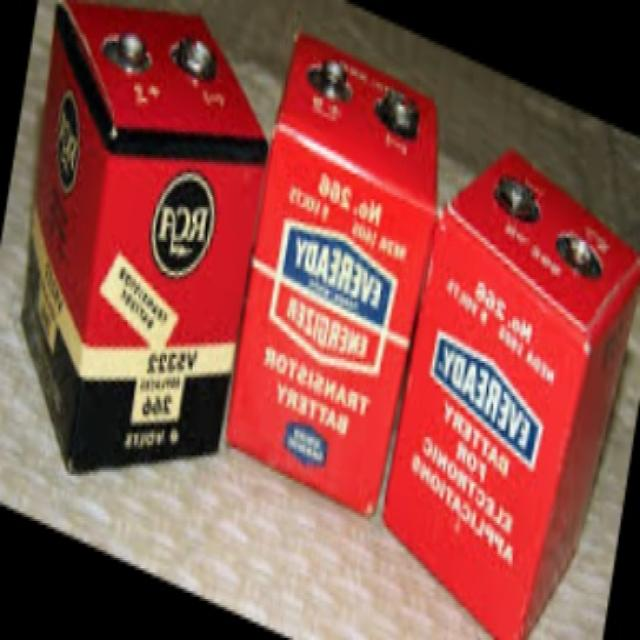B3: (256, 37, 423, 510)
